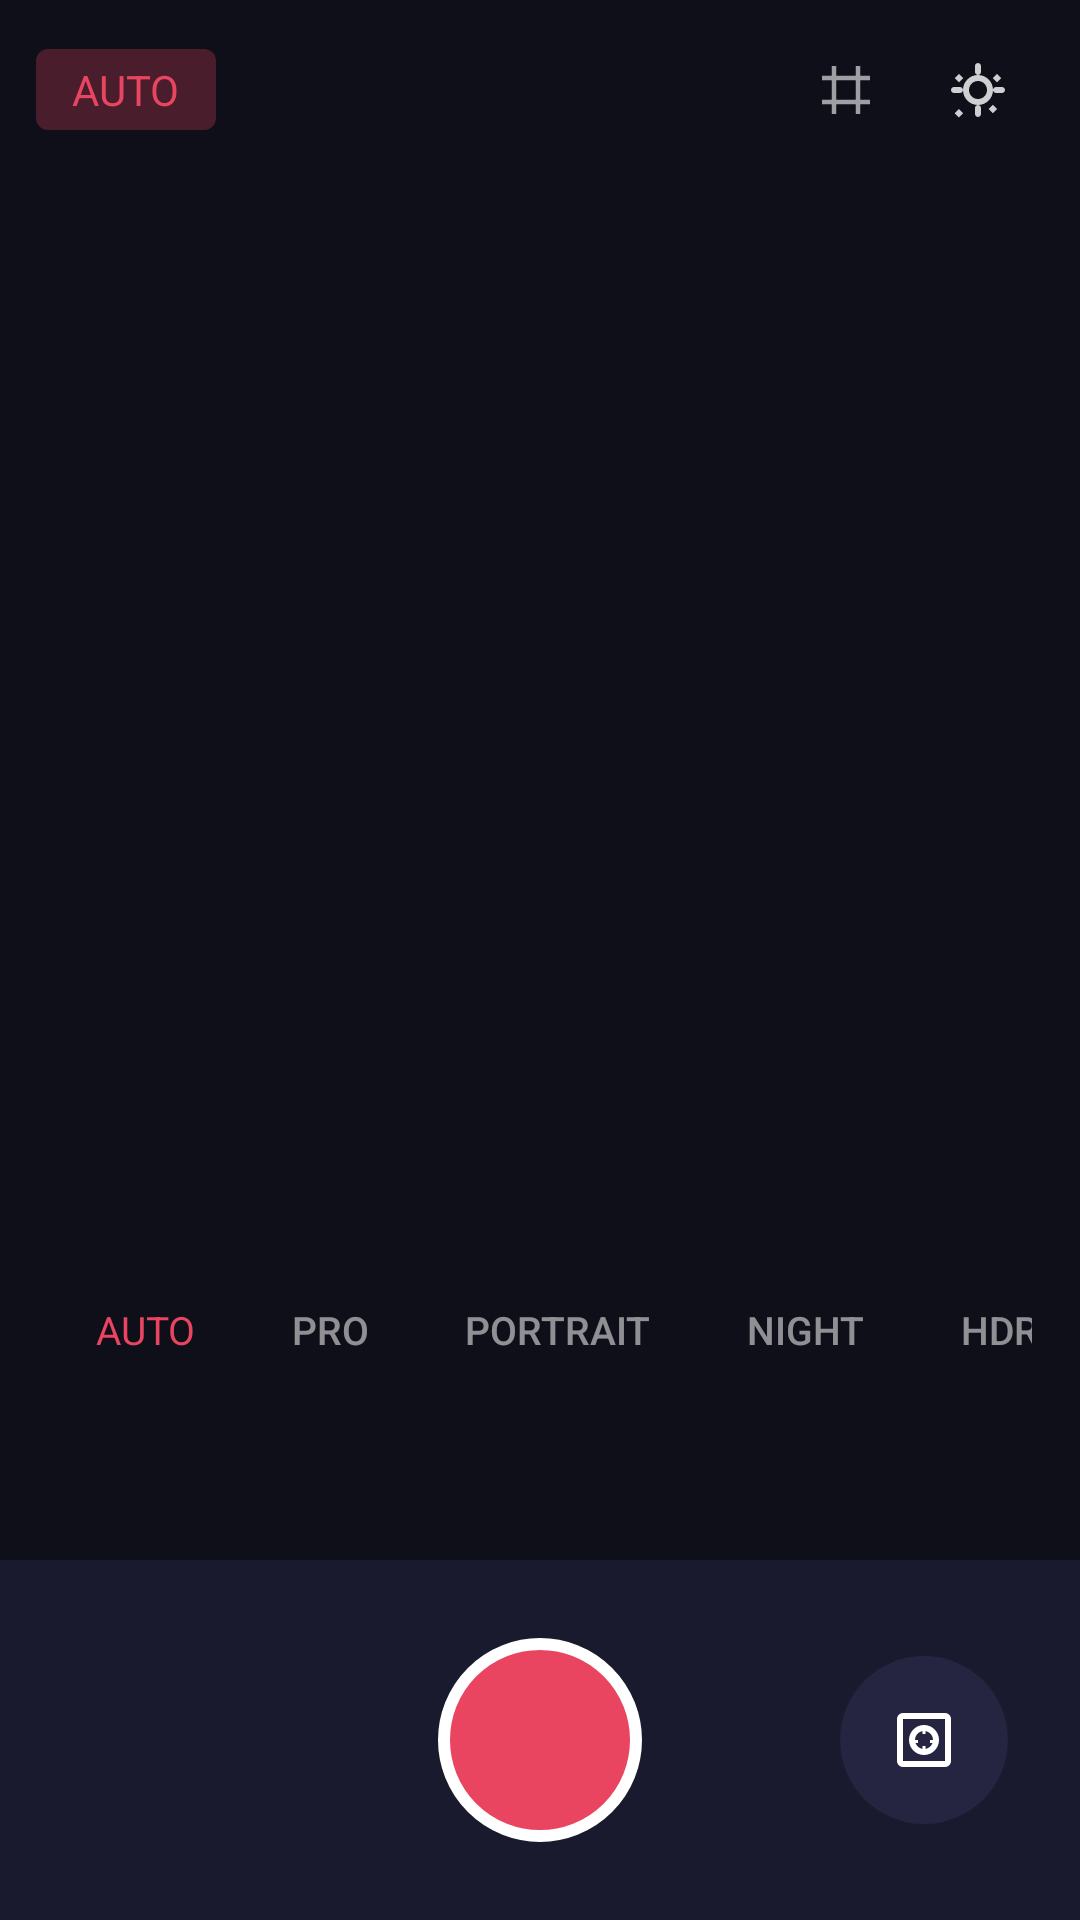

Where to tap for icons on this 1080w x 1920h app screen, as (x=x, y=y):
grid: (x=846, y=90)
